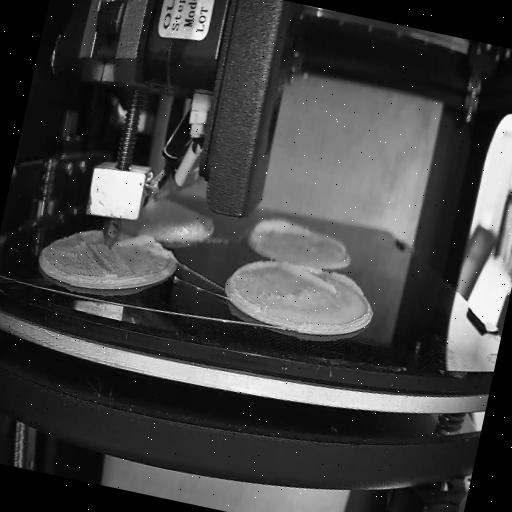over_extrusion: (277, 258, 369, 304), (224, 252, 278, 312), (251, 210, 315, 252), (116, 228, 152, 258)
